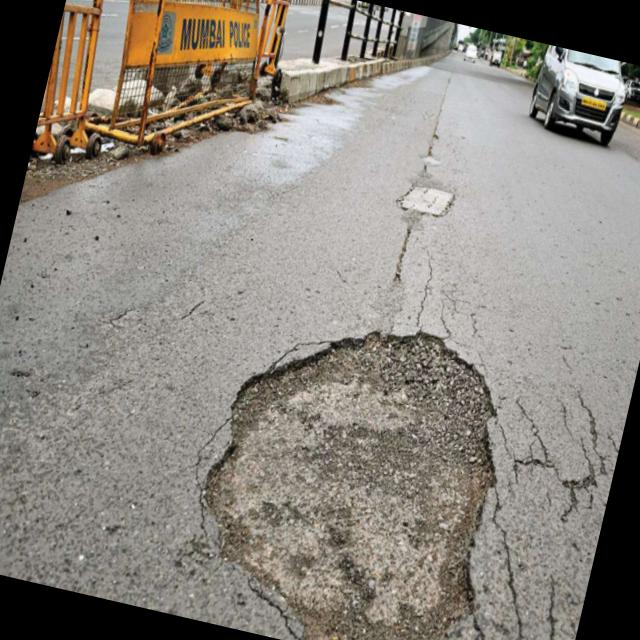Potholes: (176, 271, 557, 640)
